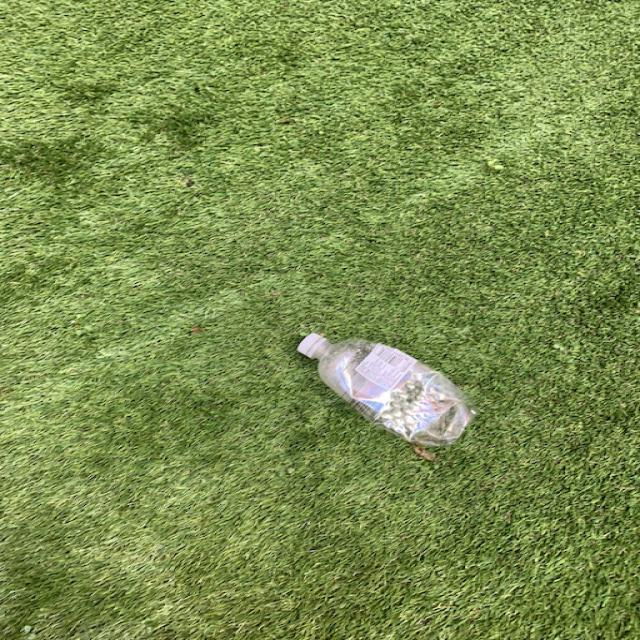litter: (298, 329, 482, 449)
